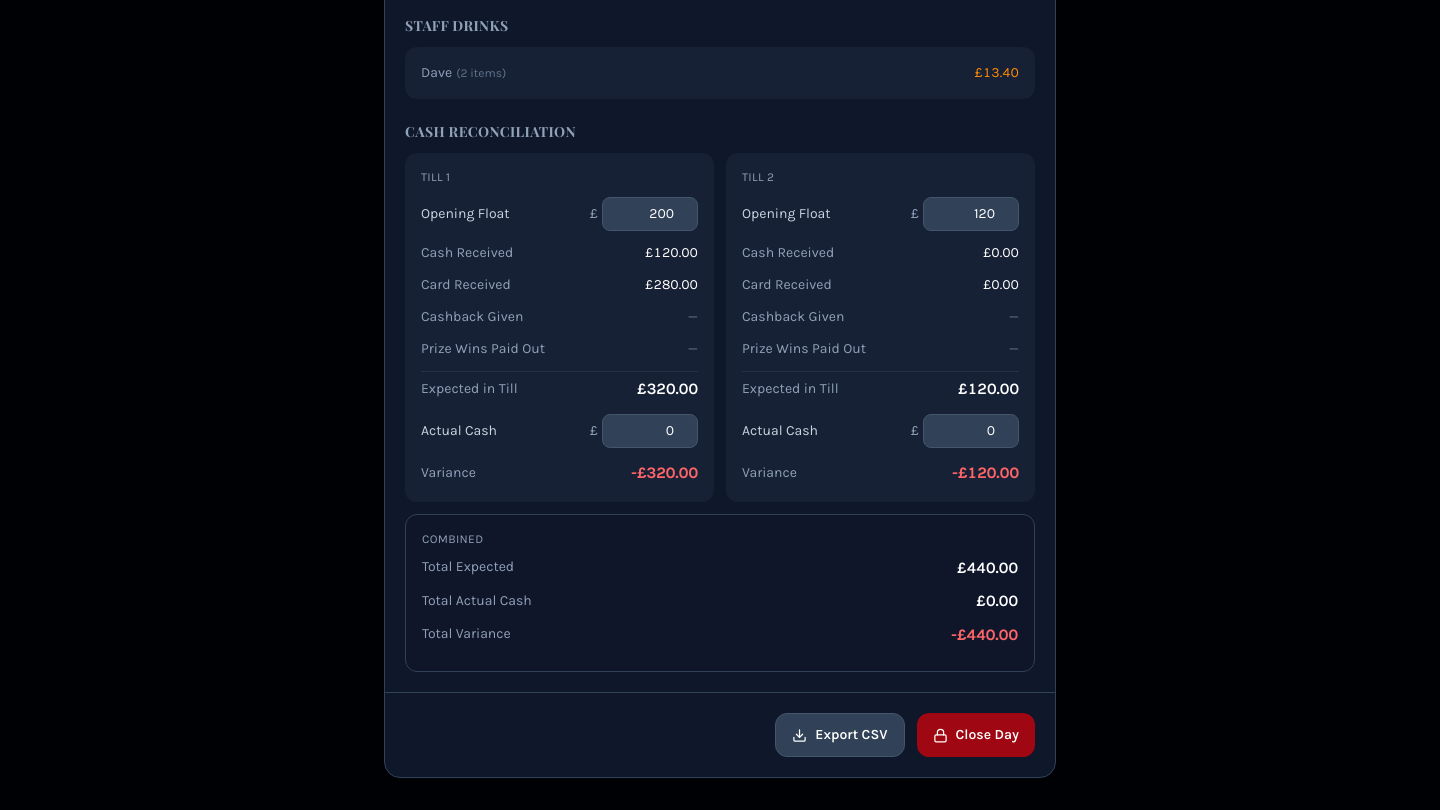
Test case: ZReportModal — Cash Reconciliation › combined variance = sum of per-till variances
(page scrolled)
Expected: the text "-£440.00" is shown, [951,622,1018,647]
Replace the text in the number field named "actual cash till 1" with "315" at (650, 431), box [602,414,698,448]
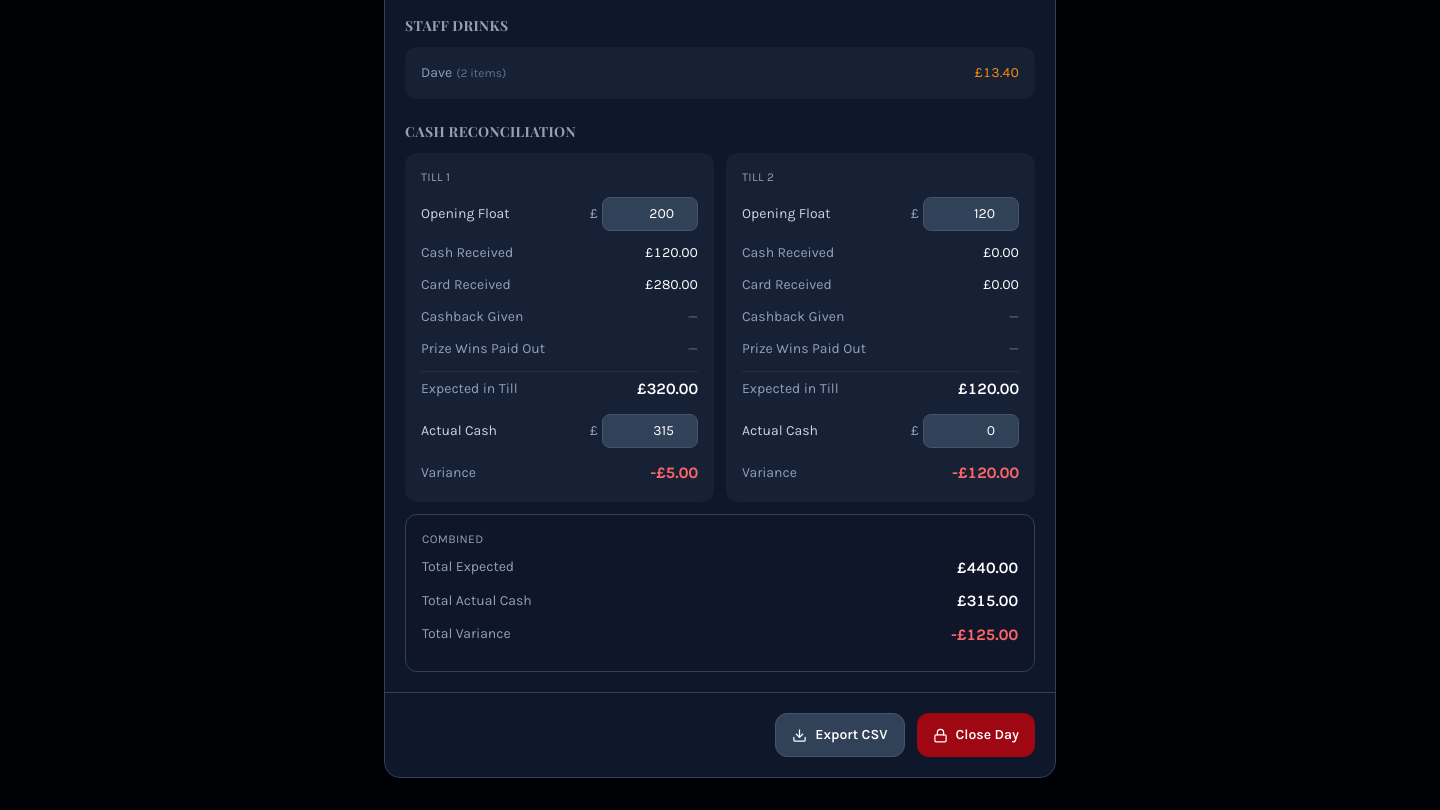
Replace the text in the number field named "actual cash till 2" with "120" at (971, 431), box [923,414,1019,448]
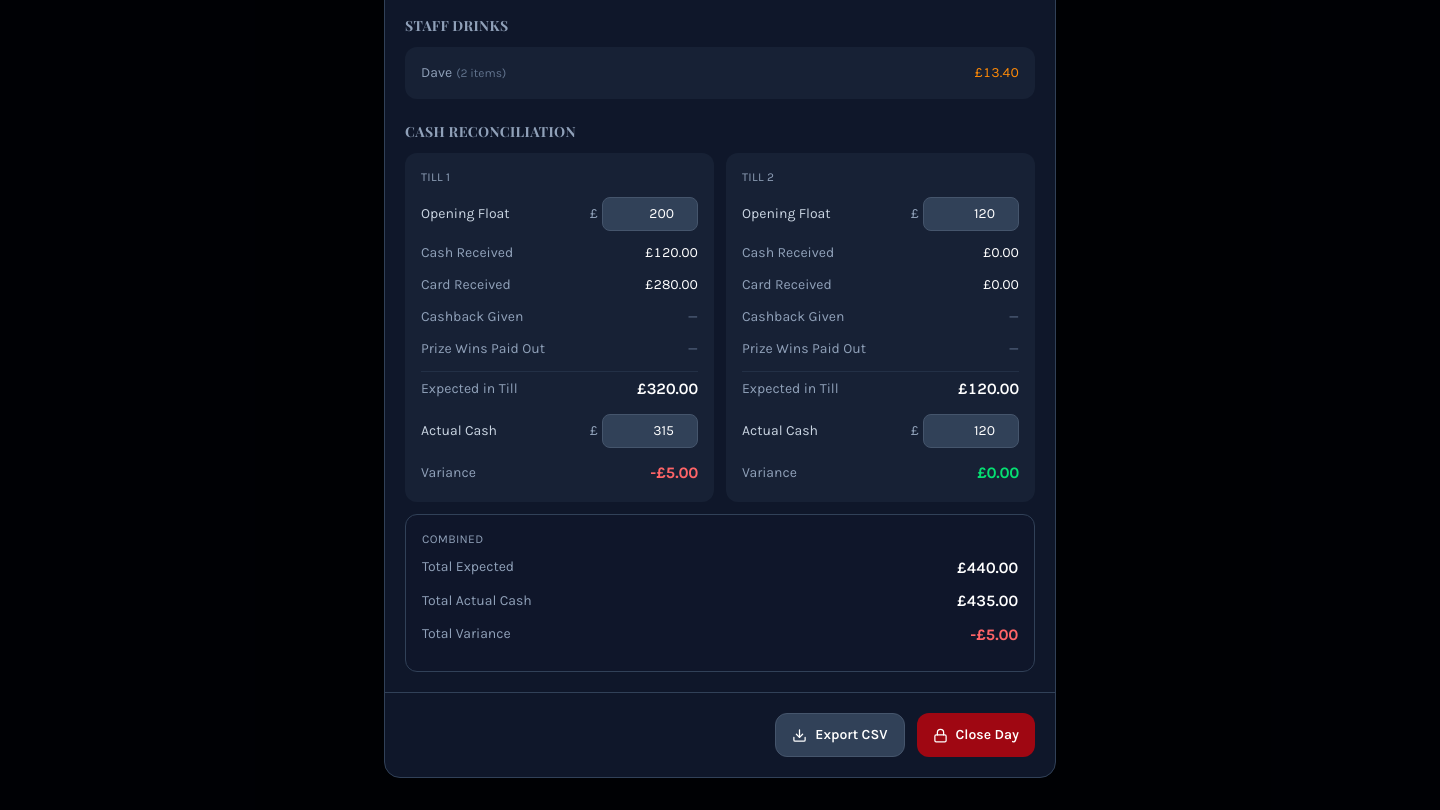
Expected: the text with test id "z-variance" reads "-£5.00", [970,625,1018,644]
